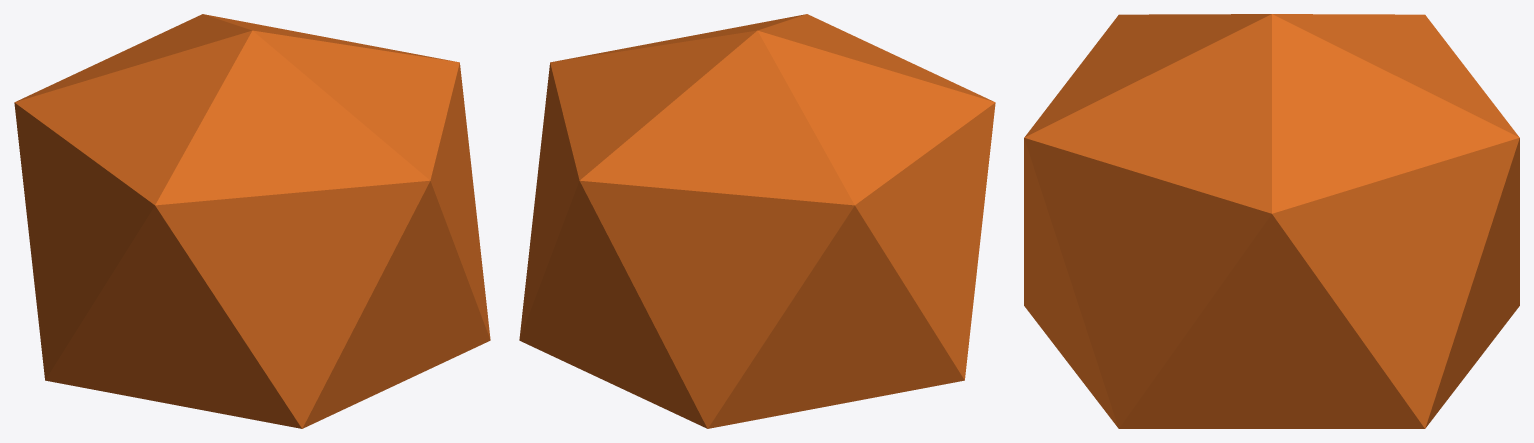
Rendered from shrub02.fbx.
The picture shows the model from 3 angles, left to right: view 1: azimuth 30°, elevation 25°; view 2: azimuth 150°, elevation 25°; view 3: azimuth 270°, elevation 25°; orthographic projection. The views are drawn at different scales.
Visible parts, largest first — view 1: Icosphere.001; view 2: Icosphere.001; view 3: Icosphere.001.
Boxes of the visible parts, x1,y1,x2,y2 form: Icosphere.001: [14, 14, 490, 428]; Icosphere.001: [519, 14, 995, 428]; Icosphere.001: [1024, 14, 1519, 428].
Bounding box in the file's own units: 179 × 146 × 170.
